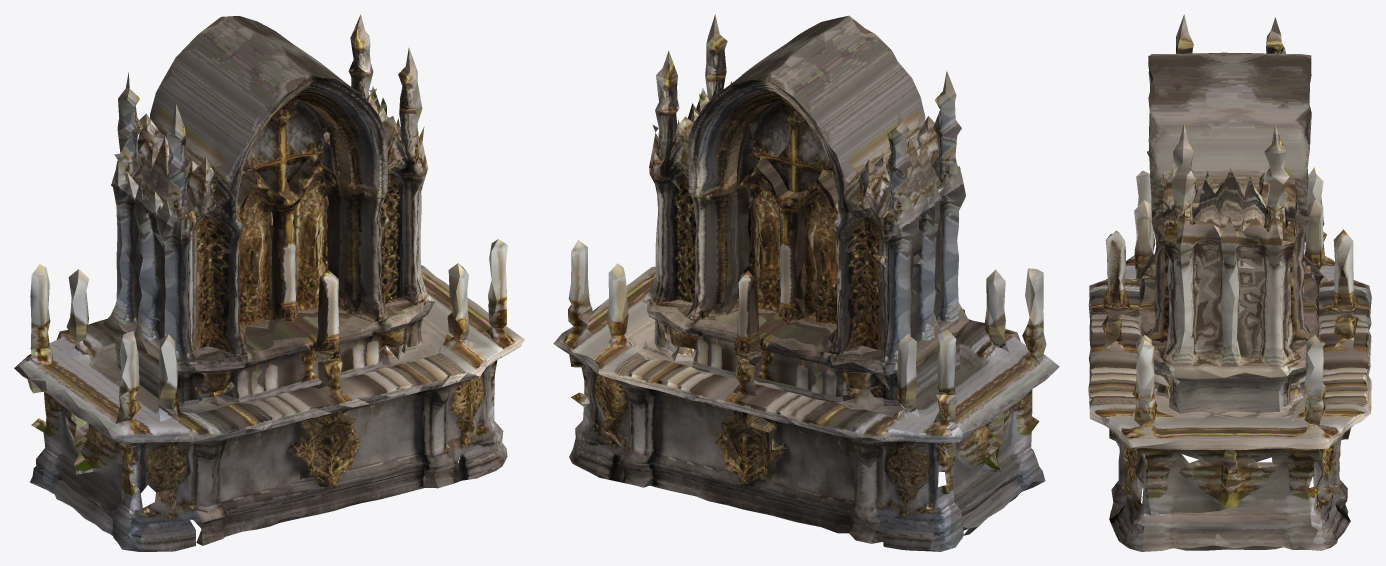
The model's file is altar.glb.
3 views of the same model, side by side, from view 1: azimuth 30°, elevation 25°; view 2: azimuth 150°, elevation 25°; view 3: azimuth 270°, elevation 25° (orthographic). The views are drawn at different scales.
Visible parts, largest first — view 1: geometry_0; view 2: geometry_0; view 3: geometry_0.
Boxes of the visible parts, x1,y1,x2,y2 form: geometry_0: (14,14,524,551); geometry_0: (553,14,1059,551); geometry_0: (1088,14,1371,551).
Bounding box in the file's own units: 2.5 × 2.5 × 1.56.
1 material, 1 textured.
